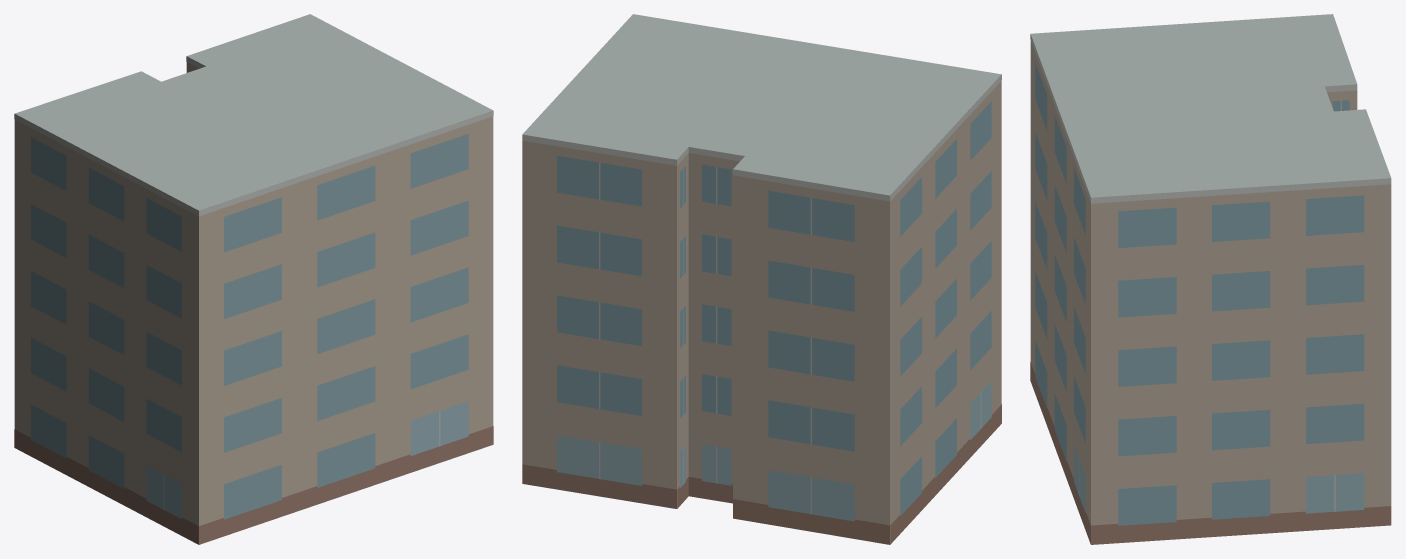
The model's file is survey-upis-32592112.glb.
3 renders of one model, left to right at view 1: azimuth 30°, elevation 25°; view 2: azimuth 150°, elevation 25°; view 3: azimuth 270°, elevation 25°, orthographic. The views are drawn at different scales.
Visible parts, largest first — view 1: survey-upis-32592112.tmp; view 2: survey-upis-32592112.tmp; view 3: survey-upis-32592112.tmp.
Boxes of the visible parts, left/top/right/bottom form: survey-upis-32592112.tmp: left=14, top=14, right=493, bottom=544; survey-upis-32592112.tmp: left=522, top=14, right=1001, bottom=544; survey-upis-32592112.tmp: left=1030, top=14, right=1391, bottom=544.
Size of the model in its own units: 16.01 by 14.1 by 13.29.
